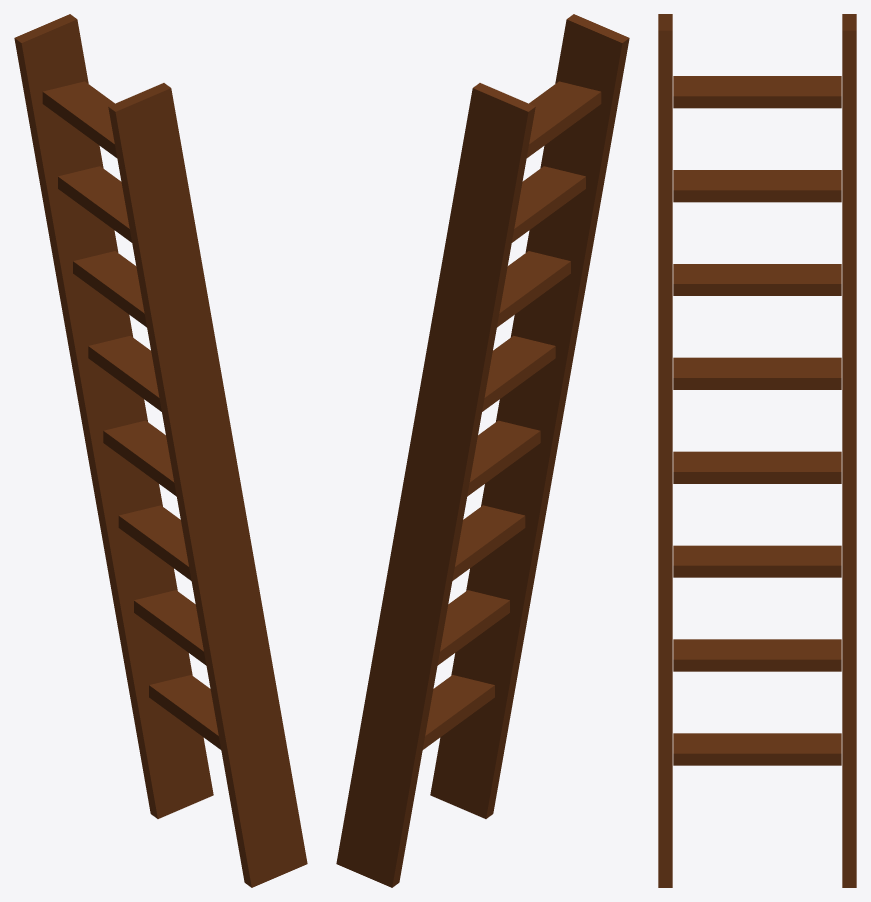
Rendered from Ladder.fbx.
3 views of the same model, side by side, from view 1: azimuth 30°, elevation 25°; view 2: azimuth 150°, elevation 25°; view 3: azimuth 270°, elevation 25° (orthographic). The views are drawn at different scales.
Parts seen in each view (by area): view 1: Cube.028; view 2: Cube.028; view 3: Cube.028.
Boxes of the visible parts, x1=… form: Cube.028: x1=14, y1=14, x2=307, y2=887; Cube.028: x1=336, y1=14, x2=629, y2=887; Cube.028: x1=658, y1=14, x2=856, y2=887.
Size of the model in its own units: 117 by 476 by 106.
